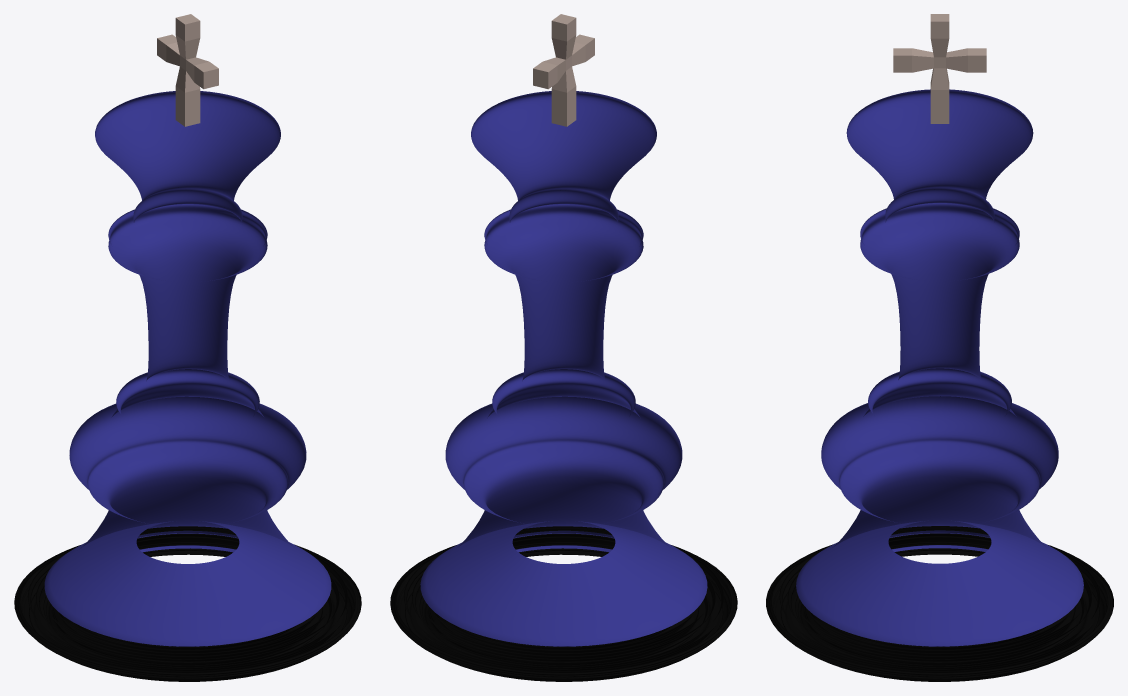
The model's file is finished_chess_piece_the_king1_black.glb.
The picture shows the model from 3 angles, left to right: view 1: azimuth 30°, elevation 25°; view 2: azimuth 150°, elevation 25°; view 3: azimuth 270°, elevation 25°; orthographic projection.
Visible parts, largest first — view 1: Cube_0, Cube.001_4; view 2: Cube_0, Cube.001_4; view 3: Cube_0, Cube.001_4.
Boxes of the visible parts, x1=… form: Cube_0: x1=14, y1=91, x2=361, y2=681; Cube.001_4: x1=157, y1=14, x2=218, y2=126; Cube_0: x1=390, y1=91, x2=737, y2=681; Cube.001_4: x1=533, y1=14, x2=594, y2=126; Cube_0: x1=766, y1=89, x2=1113, y2=681; Cube.001_4: x1=893, y1=14, x2=986, y2=123.
Size of the model in its own units: 4.85 by 9.18 by 4.85.
